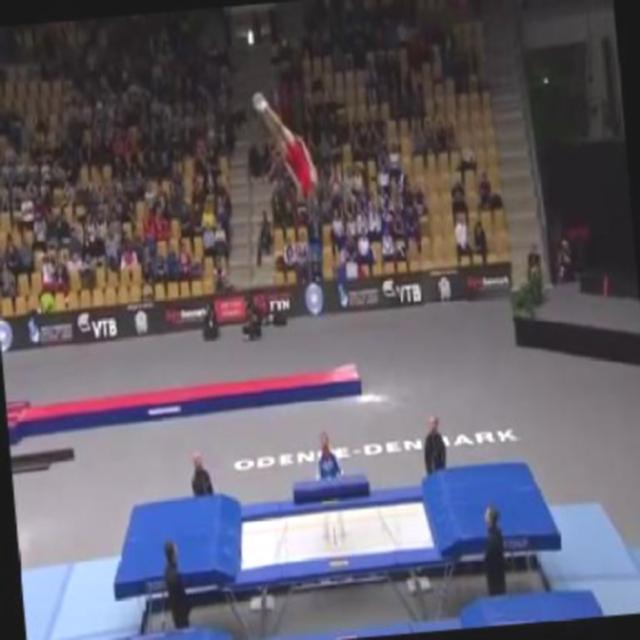non-fight: (254, 86, 322, 211)
